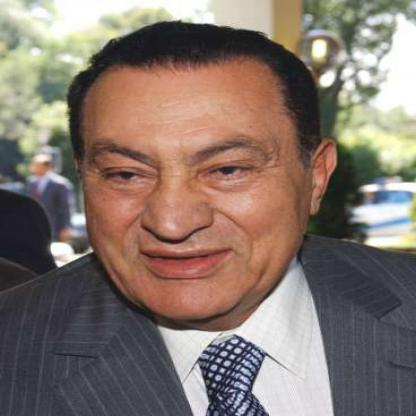face: (73, 39, 317, 323)
